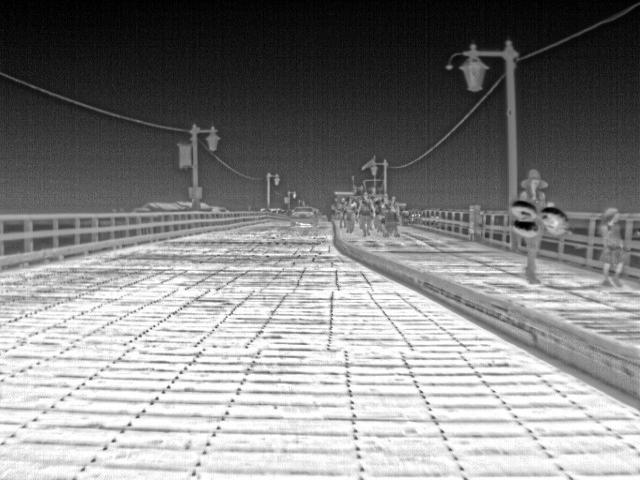car: (290, 206, 318, 226)
person: (520, 170, 547, 279), (601, 205, 625, 284), (373, 194, 391, 234), (357, 194, 374, 235), (342, 197, 359, 232)
